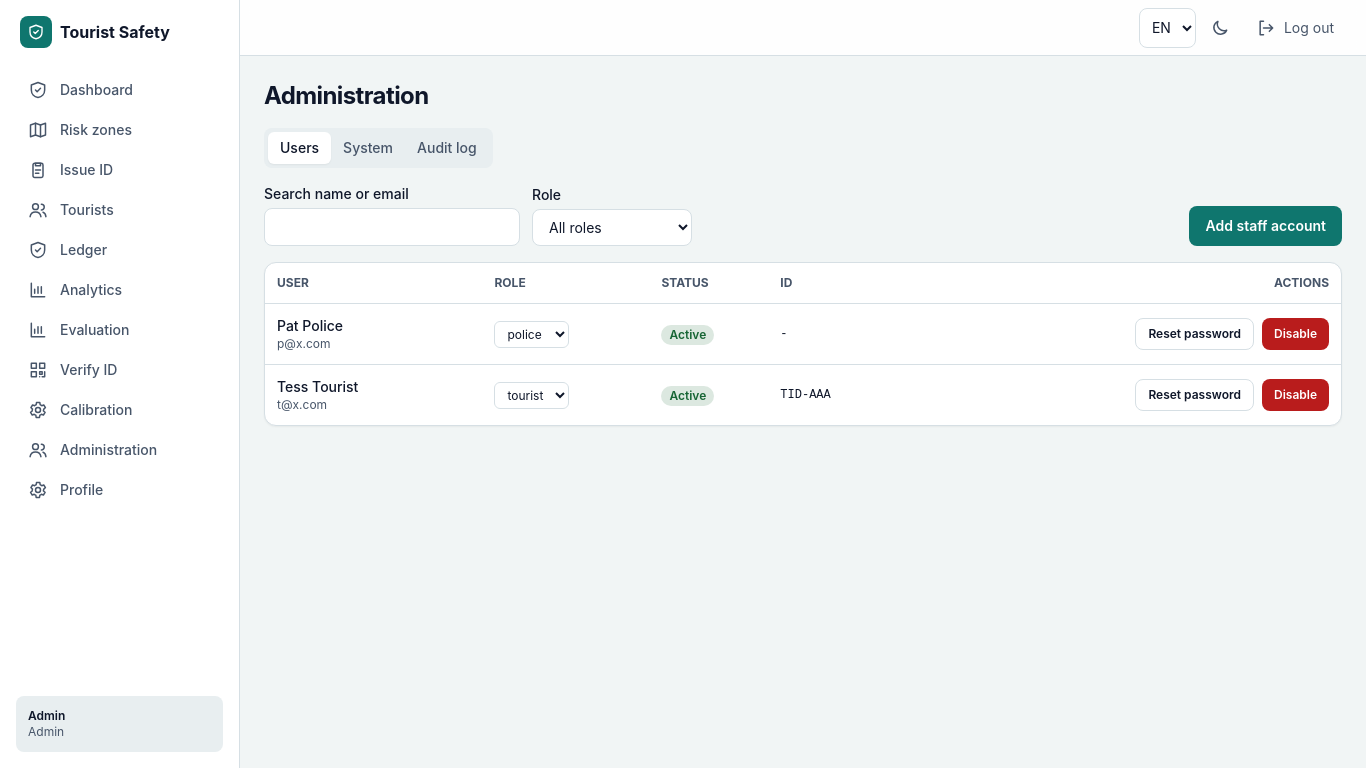
Users tab › changing a role patches the user and confirms
Expected: the text "Pat Police" is shown, [277, 317, 343, 334]
Select "officer" in the dropdown named "Role for p@x.com": (532,334) [494, 320, 570, 348]
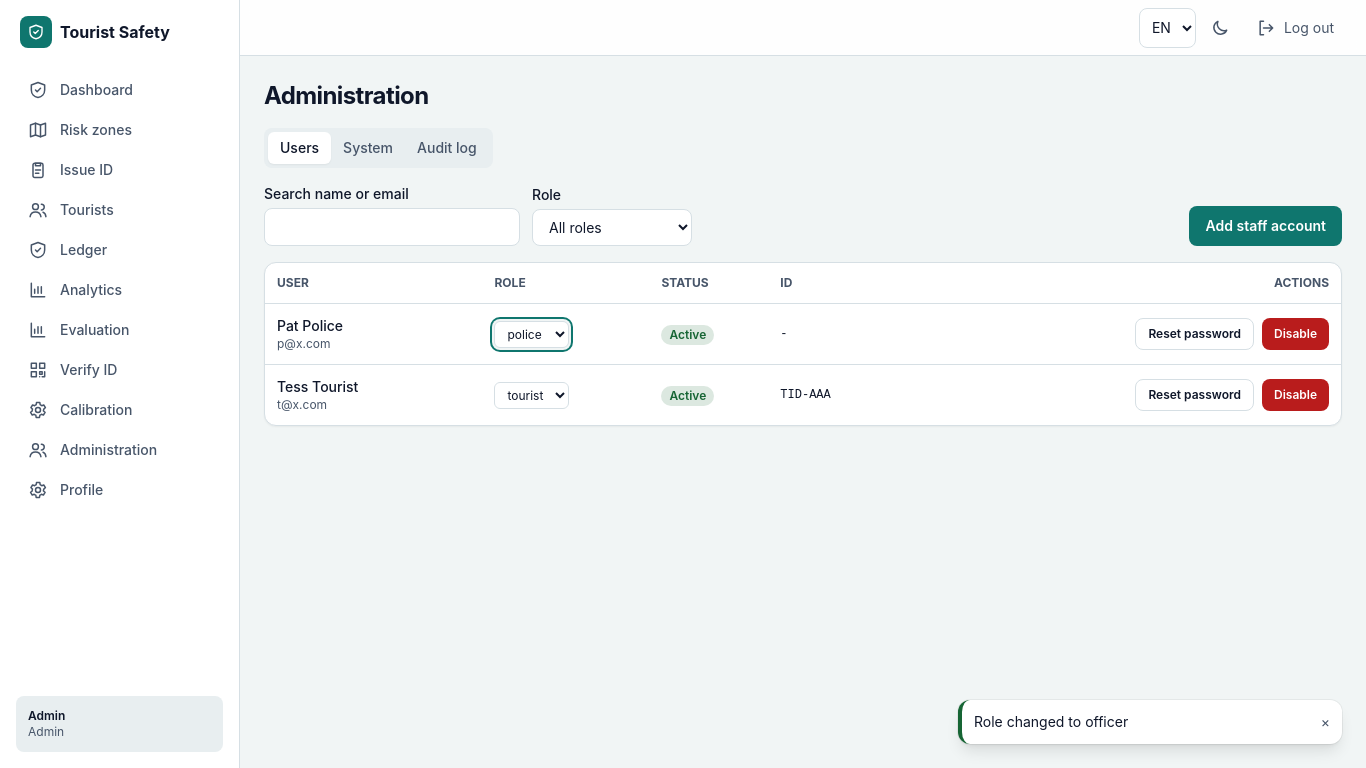
Expected: the text "Role changed to officer" is shown, [974, 713, 1128, 730]
